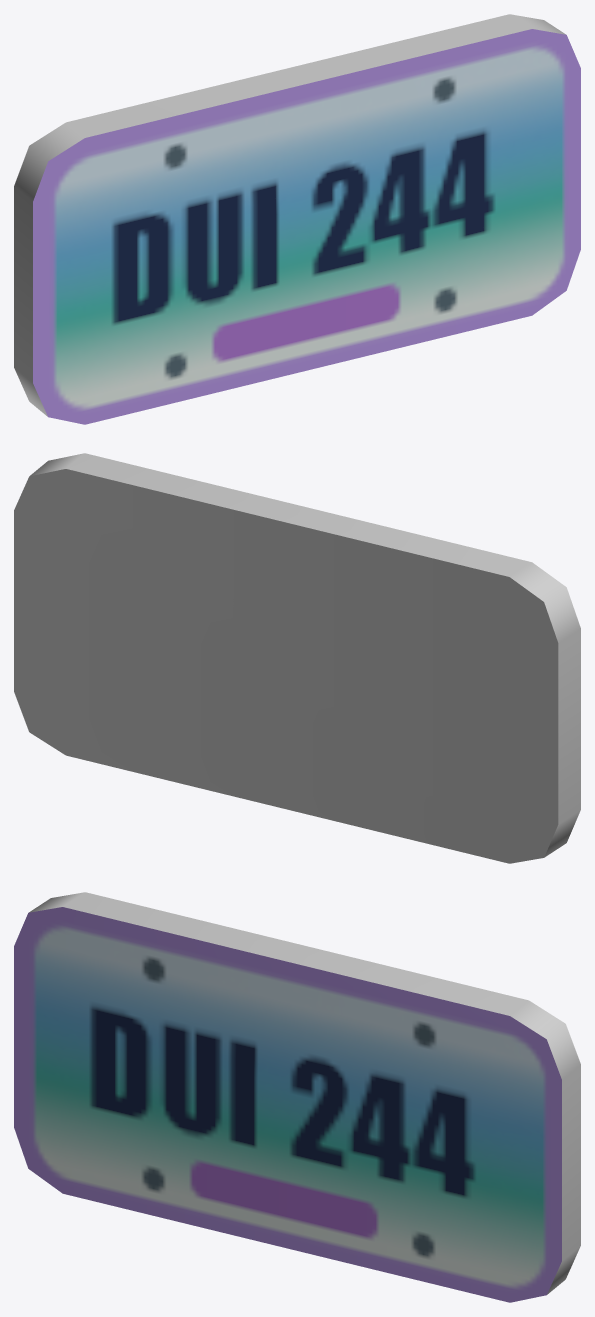
File: Car_Number_10.fbx
3 views of the same model, one above another, from view 1: azimuth 30°, elevation 25°; view 2: azimuth 150°, elevation 25°; view 3: azimuth 330°, elevation 25° (orthographic).
Parts seen in each view (by area): view 1: Car_Number_10; view 2: Car_Number_10; view 3: Car_Number_10.
Part boxes in pixels (x1,y1,x2,y2): Car_Number_10: (14,14,580,424); Car_Number_10: (14,453,580,863); Car_Number_10: (14,892,580,1302).
Bounding box in the file's own units: 49.09 × 3.48 × 24.55.
